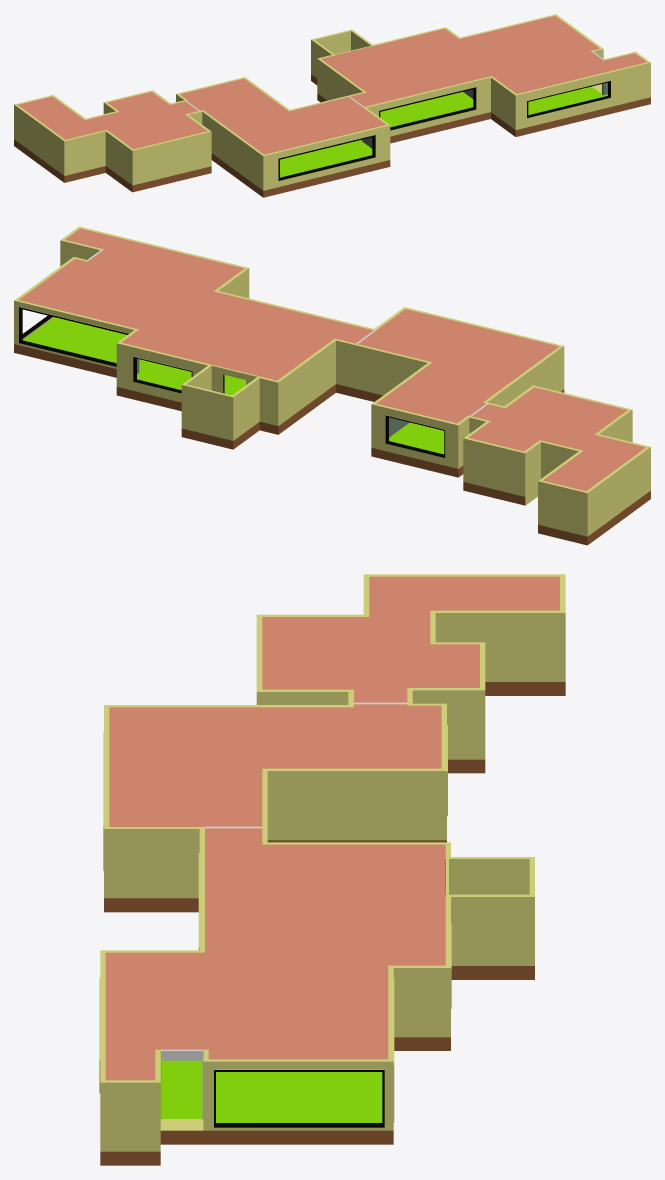
Rendered from Level 1.fbx.
3 renders of one model, top to bottom at view 1: azimuth 30°, elevation 25°; view 2: azimuth 150°, elevation 25°; view 3: azimuth 270°, elevation 25°, orthographic. The views are drawn at different scales.
Visible parts, largest first — view 1: Plane, Ceiling; view 2: Plane, Ceiling; view 3: Ceiling, Plane.
Part boxes in pixels (x1,y1,x2,y2): Plane: (14,14,650,197); Ceiling: (18,16,646,154); Plane: (14,226,650,545); Ceiling: (19,228,645,491); Ceiling: (105,576,559,1080); Plane: (99,574,565,1165).
Size of the model in its own units: 315 by 24.04 by 122.
